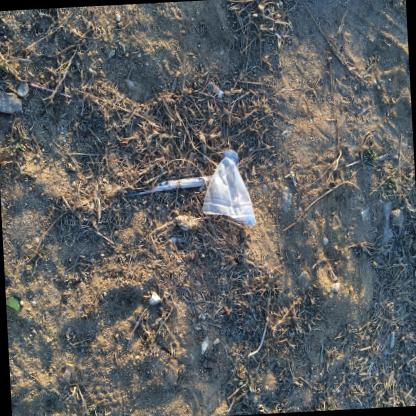Paper: (209, 81, 222, 98)
Plastic: (201, 149, 254, 226), (30, 83, 69, 97)
Waste: (124, 175, 211, 196), (0, 90, 20, 113), (5, 296, 19, 311)
